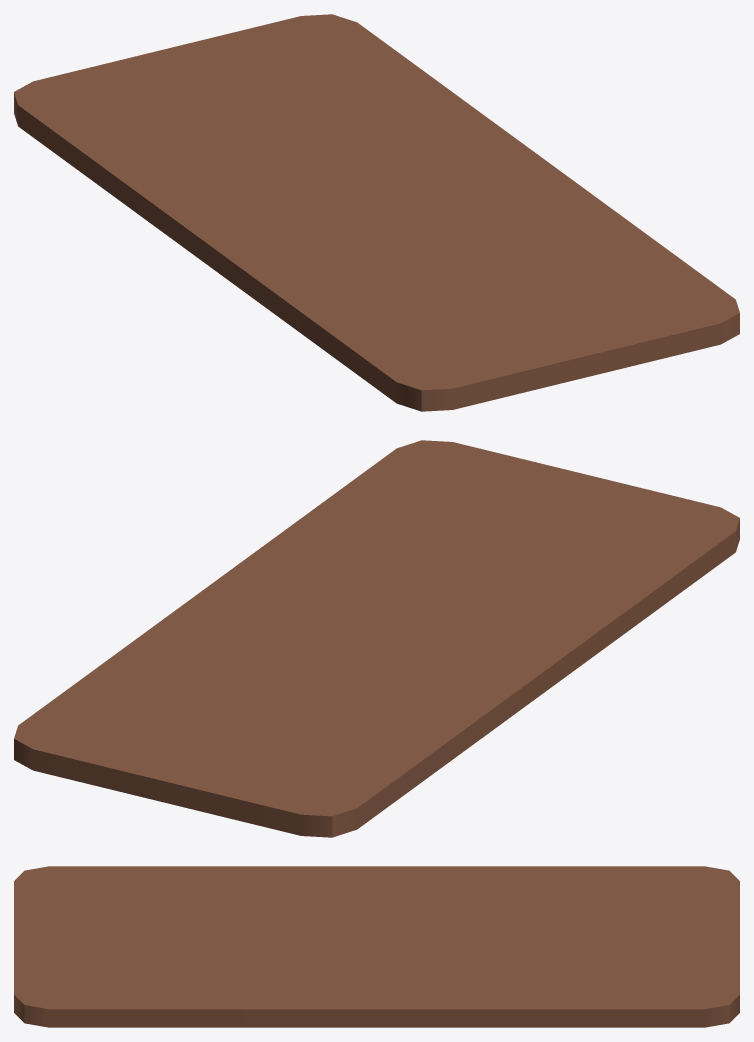
The picture shows the model from 3 angles, top to bottom: view 1: azimuth 30°, elevation 25°; view 2: azimuth 150°, elevation 25°; view 3: azimuth 270°, elevation 25°; orthographic projection. The views are drawn at different scales.
Visible parts, largest first — view 1: plane_02; view 2: plane_02; view 3: plane_02.
Part boxes in pixels (x1=…): plane_02: x1=14, y1=14, x2=739, y2=411; plane_02: x1=14, y1=440, x2=739, y2=837; plane_02: x1=14, y1=866, x2=739, y2=1027.
Bounding box in the file's own units: 46.64 × 2.8 × 100.
